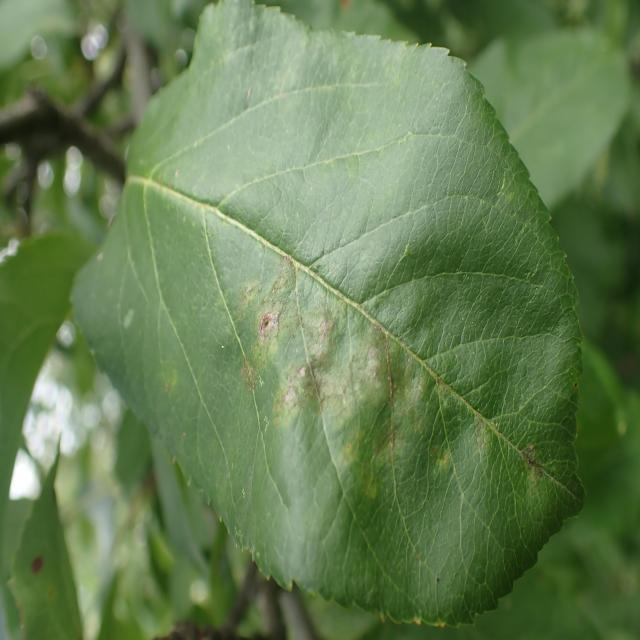scab: (201, 148, 549, 542)
